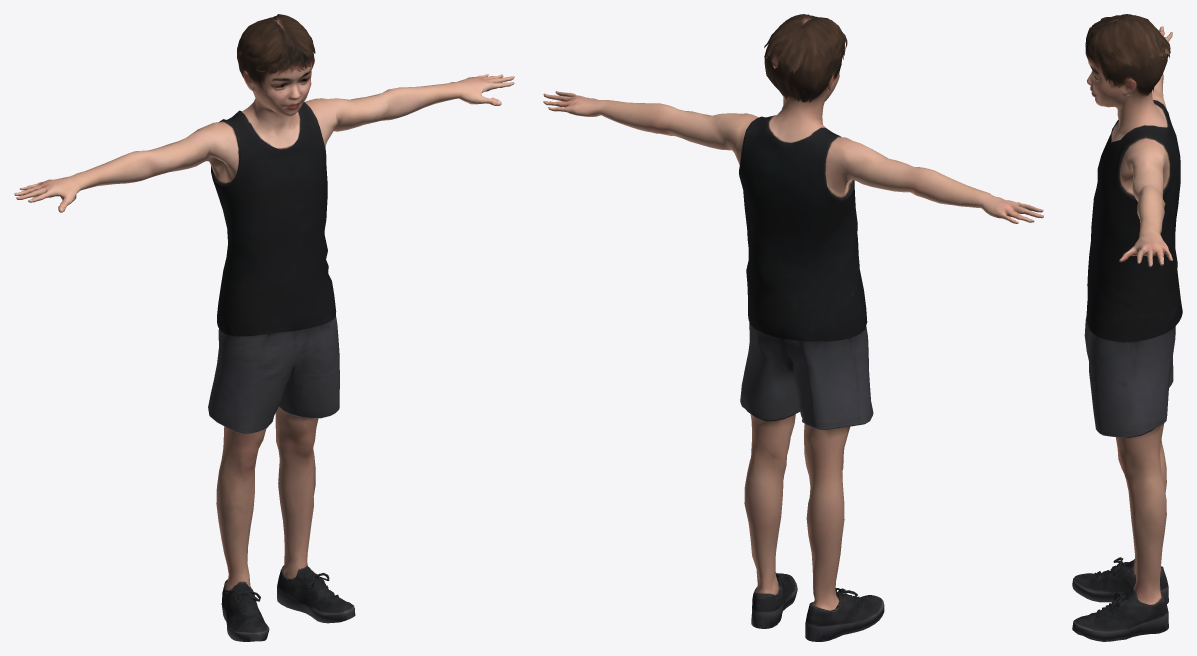
Rendered from meshy-model-2026-11-13T06-34-41-877Z(1).obj.
The picture shows the model from 3 angles, left to right: view 1: azimuth 30°, elevation 25°; view 2: azimuth 150°, elevation 25°; view 3: azimuth 270°, elevation 25°; orthographic projection.
Visible parts, largest first — view 1: mesh_0; view 2: mesh_0; view 3: mesh_0.
Part boxes in pixels (<box>): mesh_0: <box>14,14,514,641</box>; mesh_0: <box>543,14,1043,641</box>; mesh_0: <box>1072,14,1182,641</box>.
Bounding box in the file's own units: 825 × 951 × 159.
Materials: 1 (1 with a texture image).
